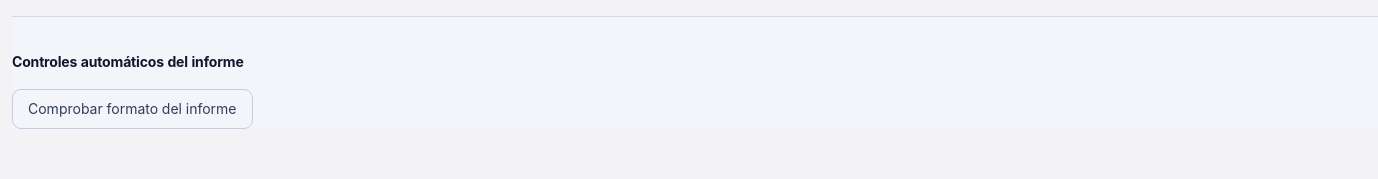
Test: documentary quality inspection › rejects another organization_id
Click the button "Comprobar formato del informe" at (132, 109), box [12,89,252,129]
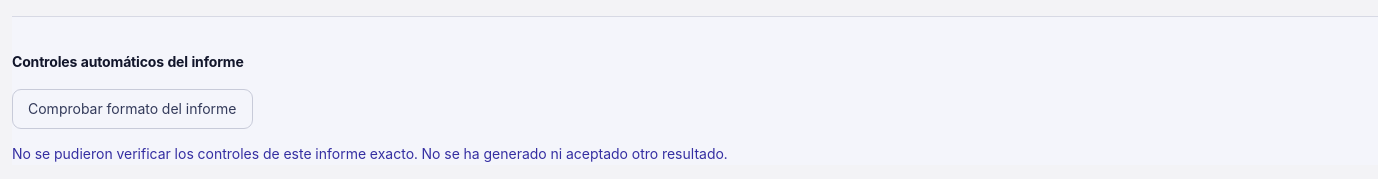
expect the message is shown: met, box [12,145,728,162]
